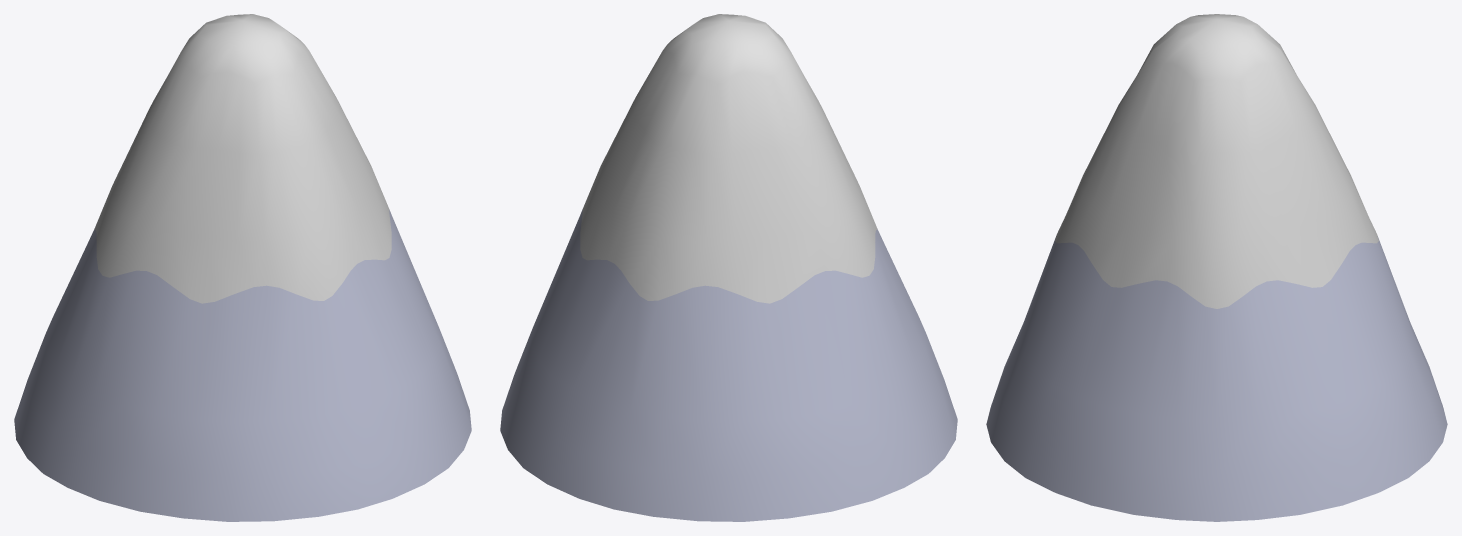
File: Mountain B.fbx
3 renders of one model, left to right at view 1: azimuth 30°, elevation 25°; view 2: azimuth 150°, elevation 25°; view 3: azimuth 270°, elevation 25°, orthographic.
Parts seen in each view (by area): view 1: Mountain B; view 2: Mountain B; view 3: Mountain B.
Part boxes in pixels (x1,y1,x2,y2): Mountain B: [14, 14, 471, 521]; Mountain B: [500, 14, 957, 521]; Mountain B: [986, 14, 1447, 521].
Size of the model in its own units: 9.93 by 9.61 by 9.92.
